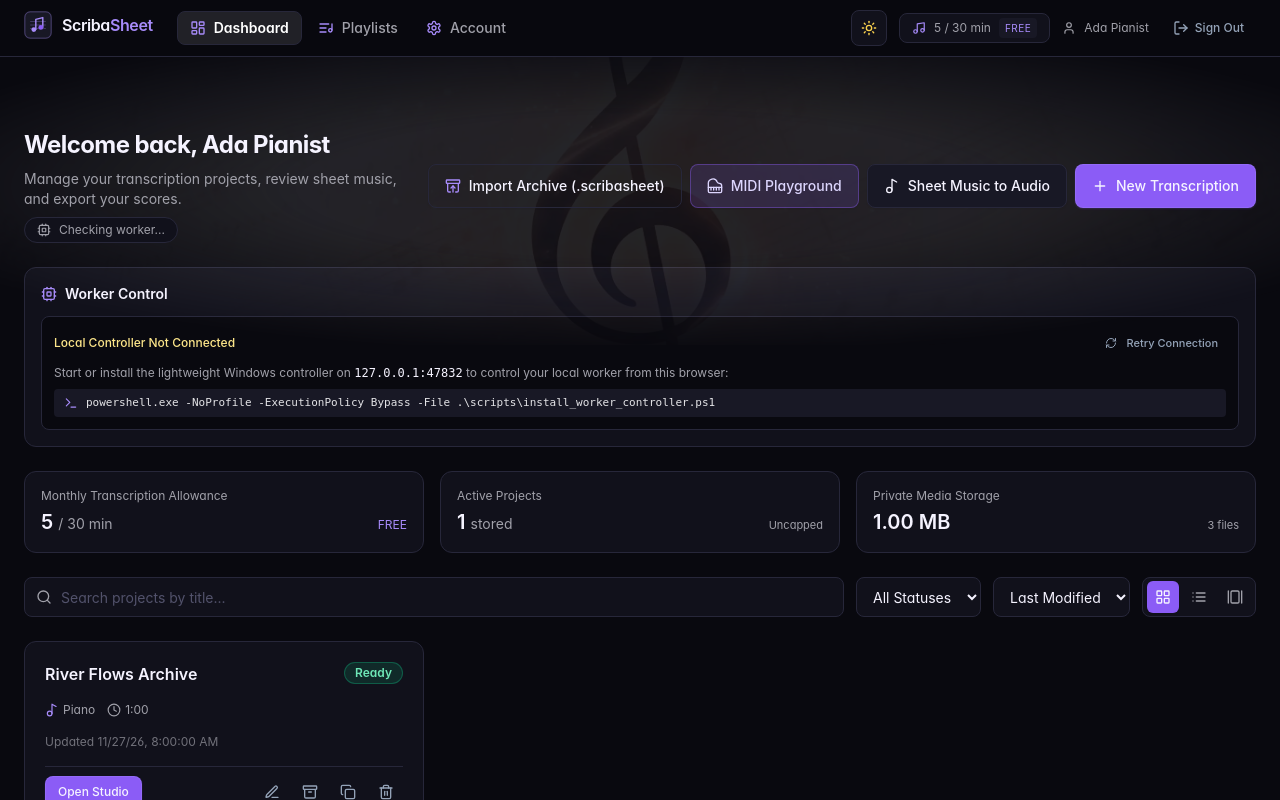
Portable .scribasheet Project Archive & Restore UI › Dashboard allows importing a .scribasheet archive with preview & validation and navigates to the restored studio
Later steps or results of the test are not shown.
Step 1. Click the button with test id "import-archive-btn" → (555, 186), box [428,164,682,208]
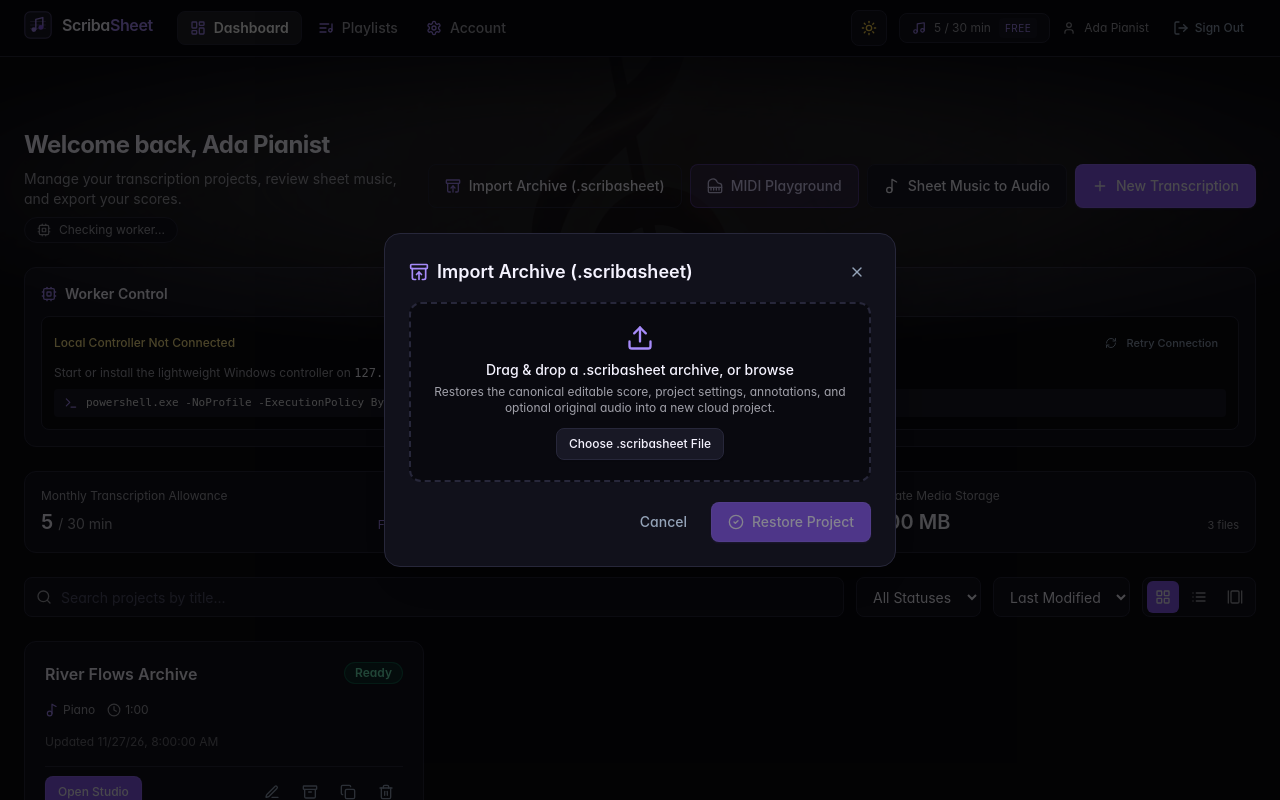
Result: the dialog with test id "archive-import-modal" is shown
